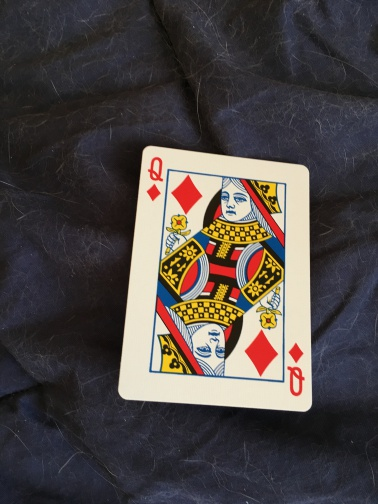queen: (118, 143, 315, 415)
